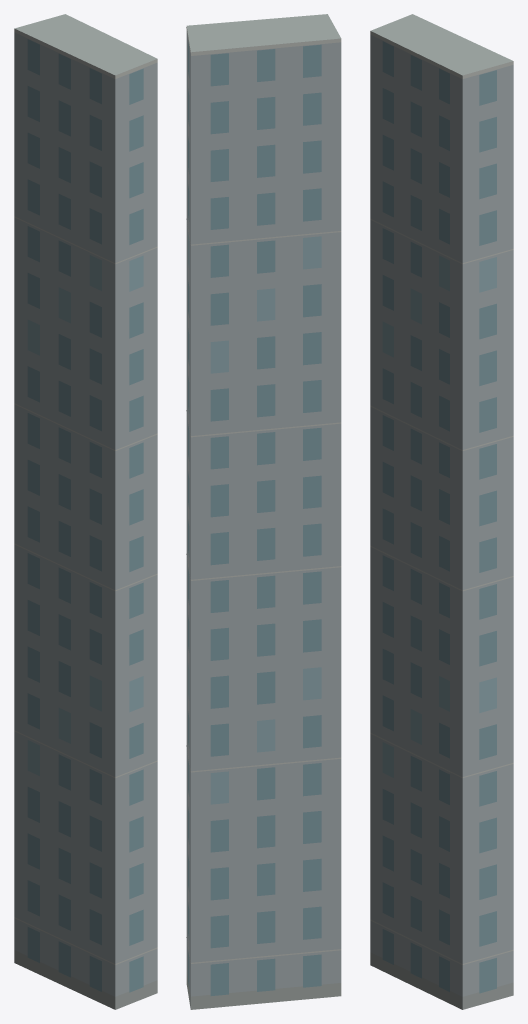
File: survey-upis-33003365.glb
The picture shows the model from 3 angles, left to right: view 1: azimuth 90°, elevation 25°; view 2: azimuth 150°, elevation 25°; view 3: azimuth 270°, elevation 25°; orthographic projection. The views are drawn at different scales.
Visible parts, largest first — view 1: survey-upis-33003365.tmp; view 2: survey-upis-33003365.tmp; view 3: survey-upis-33003365.tmp.
Part boxes in pixels (box(x1,y1,x2,y2)): survey-upis-33003365.tmp: box(14, 14, 157, 1009); survey-upis-33003365.tmp: box(186, 14, 341, 1009); survey-upis-33003365.tmp: box(370, 14, 513, 1009).
Size of the model in its own units: 8.63 by 61 by 8.5.
